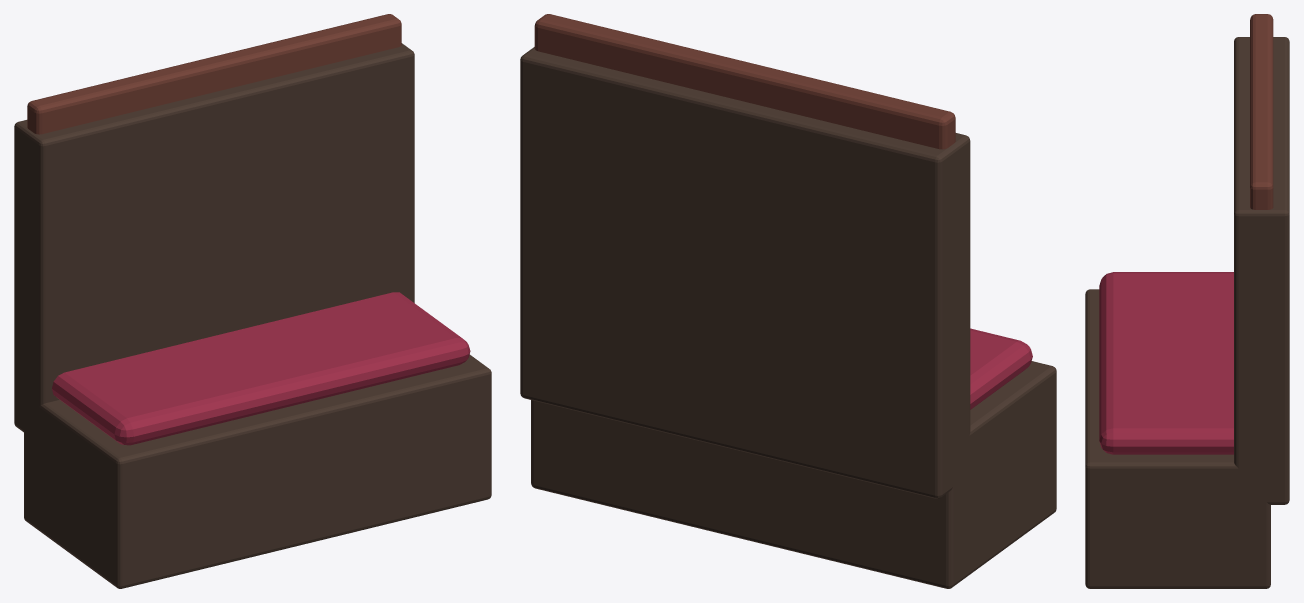
Rendered from kneeler_cushioned.glb.
3 views of the same model, side by side, from view 1: azimuth 30°, elevation 25°; view 2: azimuth 150°, elevation 25°; view 3: azimuth 270°, elevation 25° (orthographic). The views are drawn at different scales.
Visible parts, largest first — view 1: GD_kneeler_cushioned__m0, GD_kneeler_cushioned__m1, GD_kneeler_cushioned__m2; view 2: GD_kneeler_cushioned__m0, GD_kneeler_cushioned__m2, GD_kneeler_cushioned__m1; view 3: GD_kneeler_cushioned__m0, GD_kneeler_cushioned__m1, GD_kneeler_cushioned__m2.
Boxes of the visible parts, x1,y1,x2,y2 form: GD_kneeler_cushioned__m0: (14,43,491,588); GD_kneeler_cushioned__m1: (52,292,470,445); GD_kneeler_cushioned__m2: (27,14,401,134); GD_kneeler_cushioned__m0: (520,47,1056,588); GD_kneeler_cushioned__m2: (534,14,955,149); GD_kneeler_cushioned__m1: (970,328,1032,409); GD_kneeler_cushioned__m0: (1085,37,1289,588); GD_kneeler_cushioned__m1: (1099,272,1233,454); GD_kneeler_cushioned__m2: (1250,14,1273,209).
Size of the model in its own units: 0.9 by 0.96 by 0.44.
